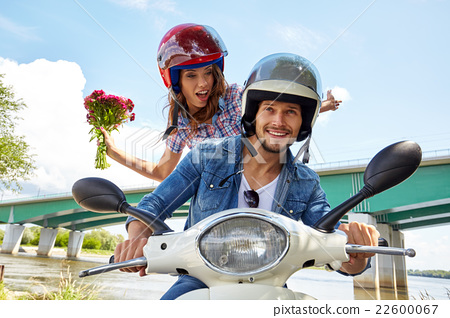helmet: (240, 51, 330, 125), (151, 25, 237, 77)
